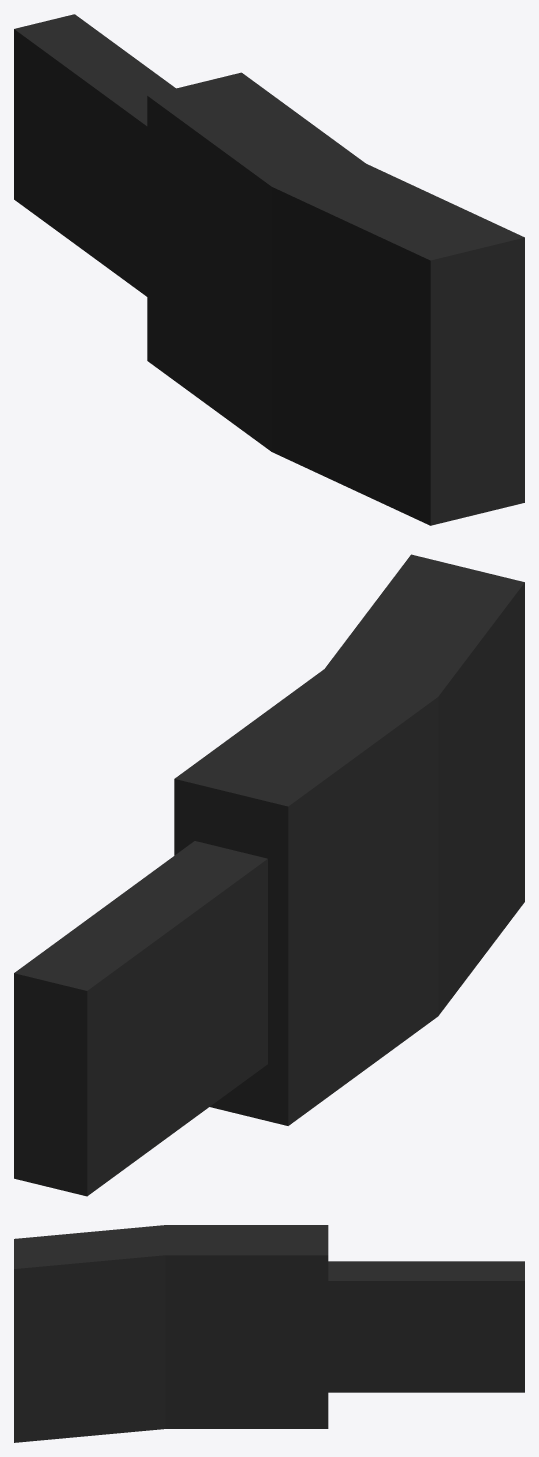
Rendered from SMG5_04_3.fbx.
3 views of the same model, one above another, from view 1: azimuth 30°, elevation 25°; view 2: azimuth 150°, elevation 25°; view 3: azimuth 270°, elevation 25° (orthographic). The views are drawn at different scales.
Visible parts, largest first — view 1: SMG5_04_3; view 2: SMG5_04_3; view 3: SMG5_04_3.
Boxes of the visible parts, bbox=[...] form: SMG5_04_3: bbox=[14, 14, 524, 525]; SMG5_04_3: bbox=[14, 554, 524, 1196]; SMG5_04_3: bbox=[14, 1225, 524, 1442].
Size of the model in its own units: 0.00558 by 0.0103 by 0.0273.
